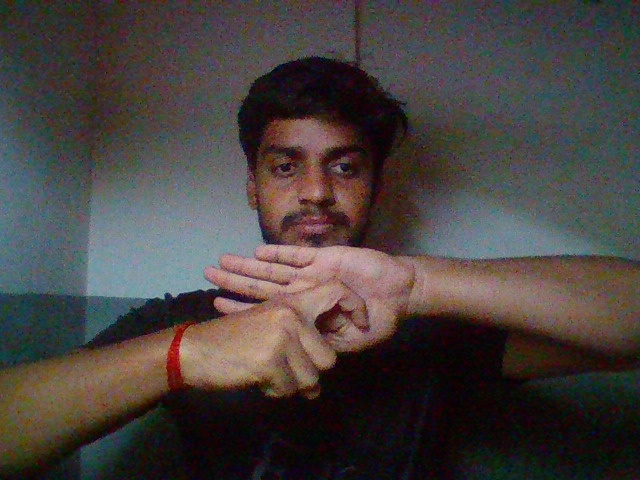R: (181, 228, 429, 408)
